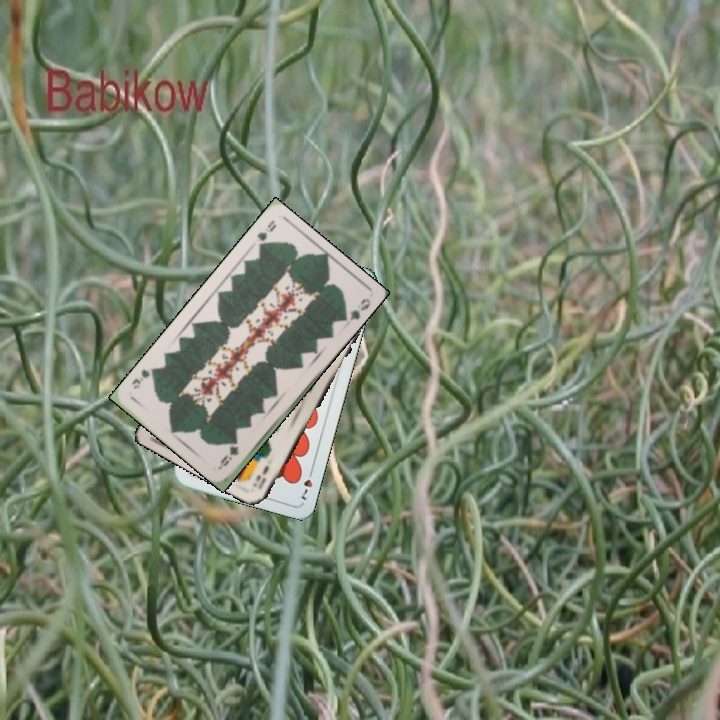EK: (249, 461, 271, 492)
G9: (253, 216, 279, 253), (217, 442, 241, 469)
H7: (296, 464, 316, 503)
